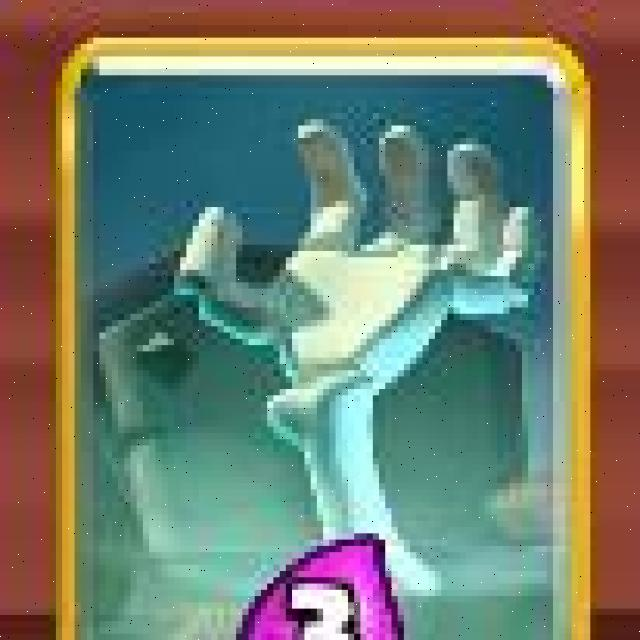Tombstone: (51, 36, 588, 640)
